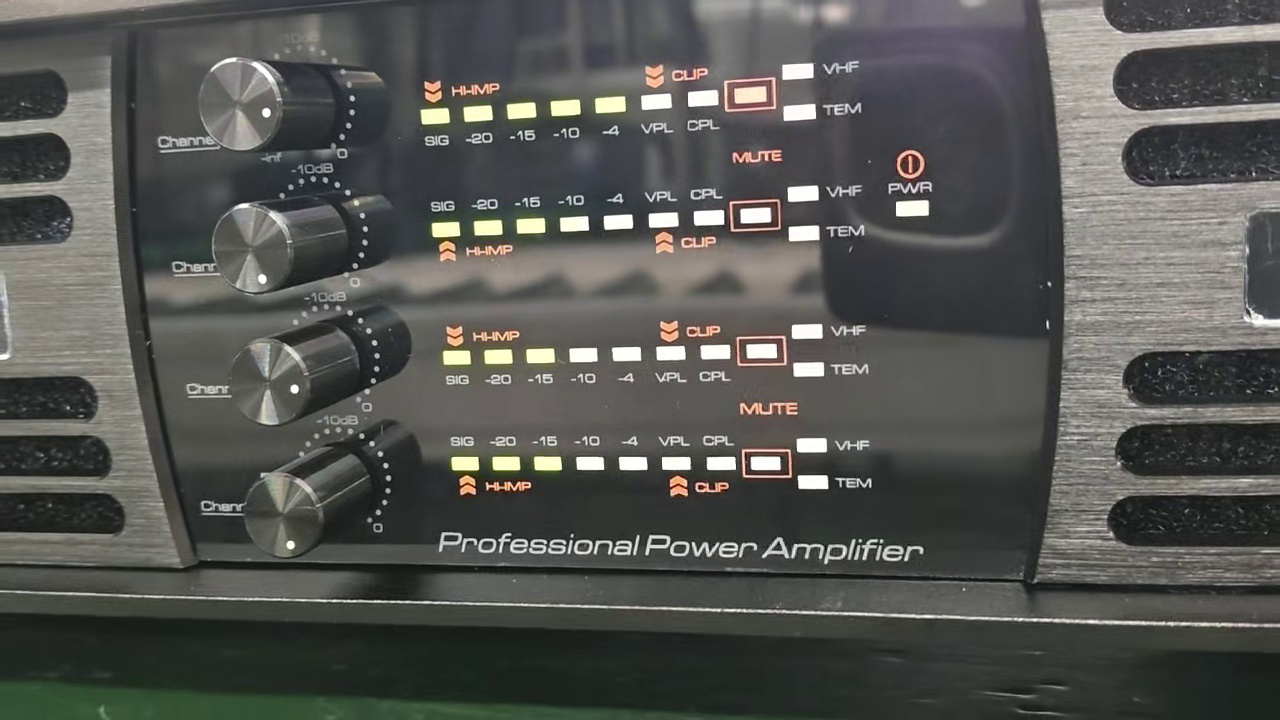FP_CPL: (684, 84, 723, 140), (696, 340, 733, 393), (687, 184, 727, 233), (701, 427, 739, 478)
FP_PWR: (882, 179, 937, 221)
FP_PWR_area: (881, 142, 942, 228)
FP_SIG_area: (413, 50, 866, 148), (421, 176, 868, 268), (433, 312, 876, 394), (446, 424, 873, 498)
FP_VPL: (637, 84, 676, 142), (642, 181, 682, 232), (651, 342, 691, 390), (657, 426, 695, 476)
